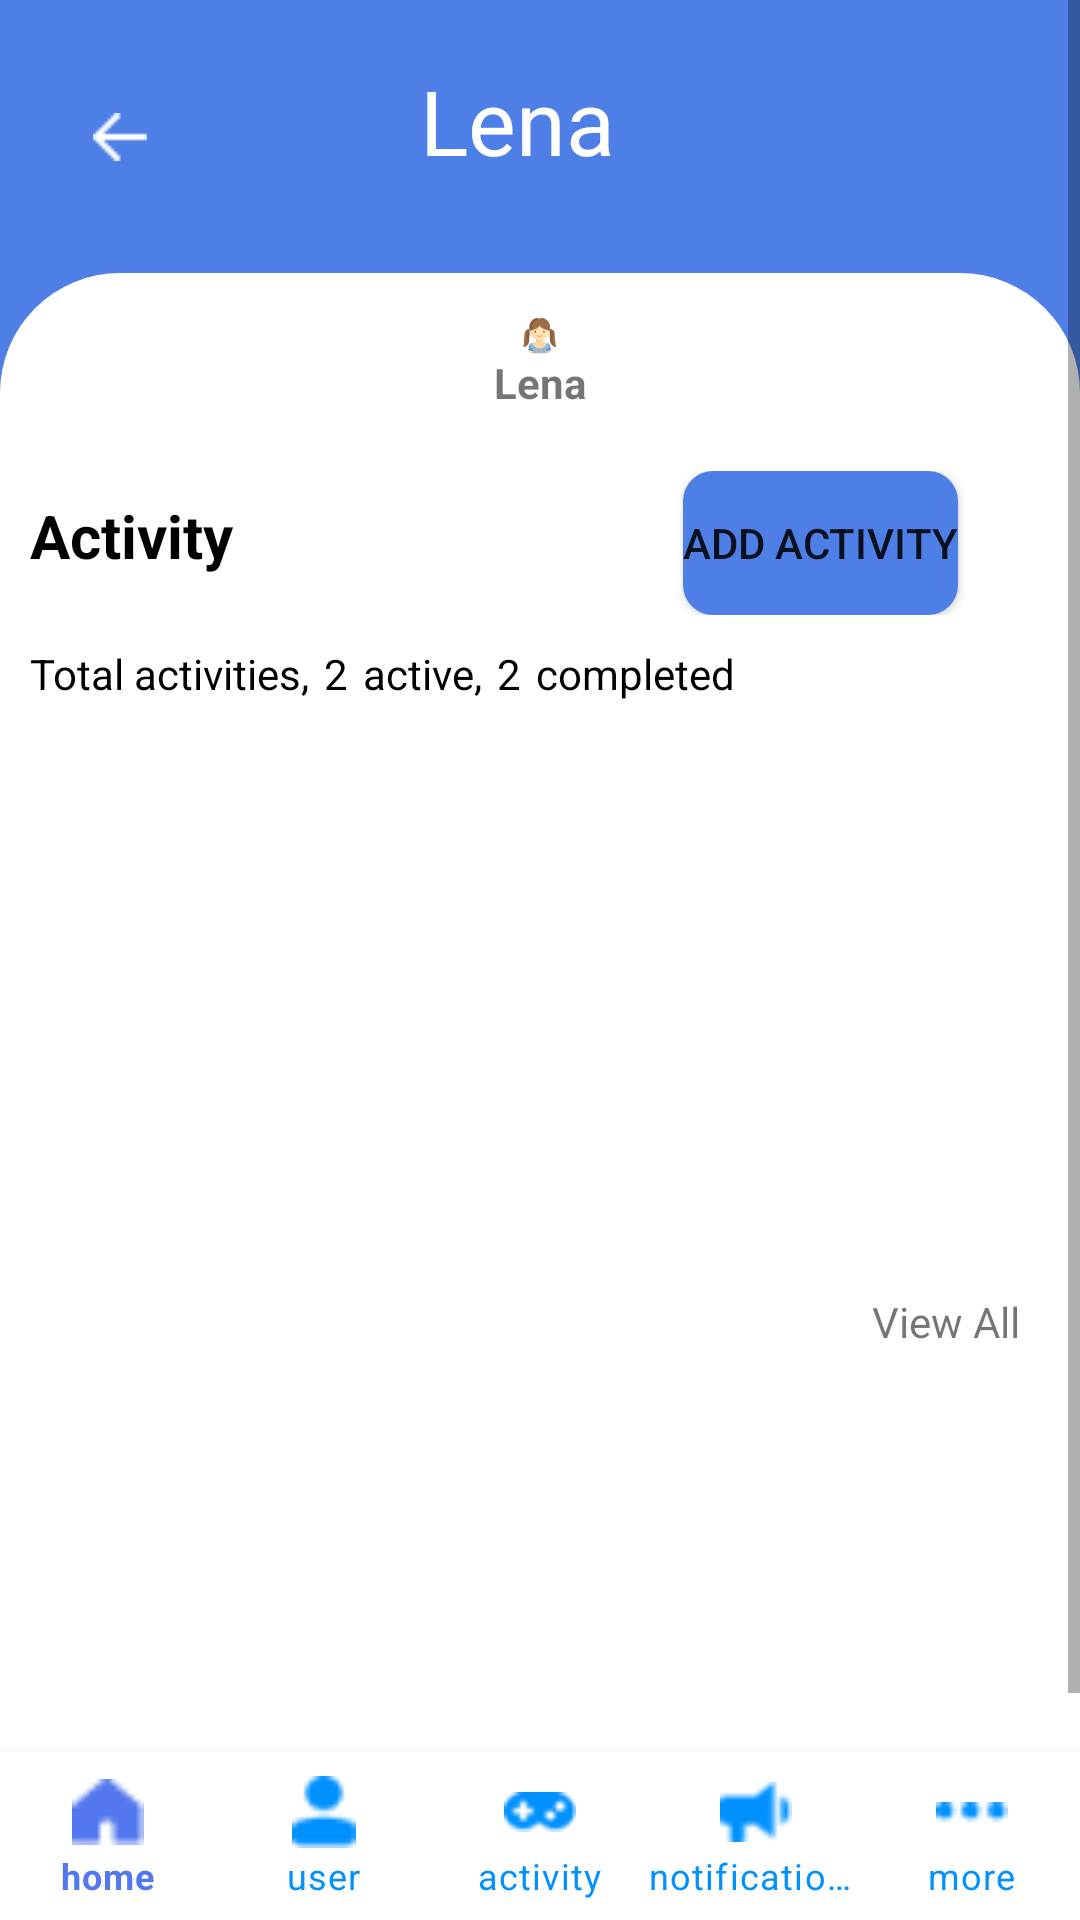

Screen size 1080w x 1920h. Icon name, then its box in pixels as (x1,y1,x2,y2):
girl: (523,318,556,354)
